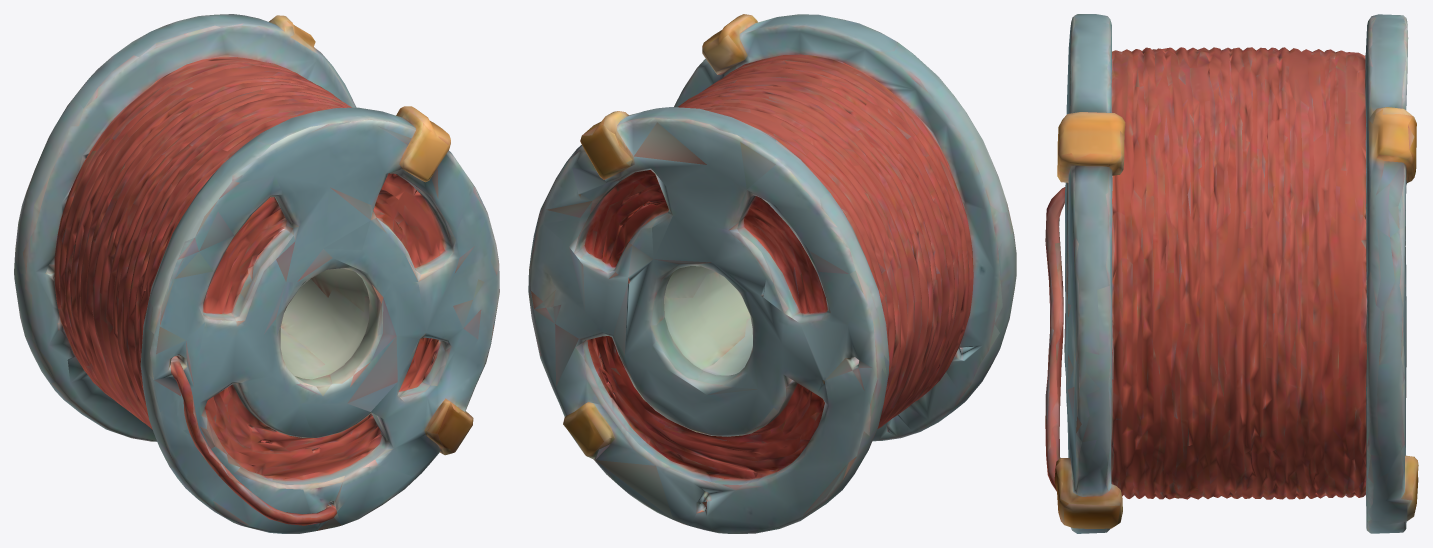
File: sc-filament-spool.glb
3 views of the same model, side by side, from view 1: azimuth 30°, elevation 25°; view 2: azimuth 150°, elevation 25°; view 3: azimuth 270°, elevation 25° (orthographic). The views are drawn at different scales.
Visible parts, largest first — view 1: geometry_0; view 2: geometry_0; view 3: geometry_0.
Boxes of the visible parts, x1,y1,x2,y2 form: geometry_0: (14, 14, 499, 533); geometry_0: (528, 14, 1016, 533); geometry_0: (1045, 14, 1418, 533).
Bounding box in the file's own units: 0.914 × 1 × 0.7121.
Materials: 1 (1 with a texture image).
